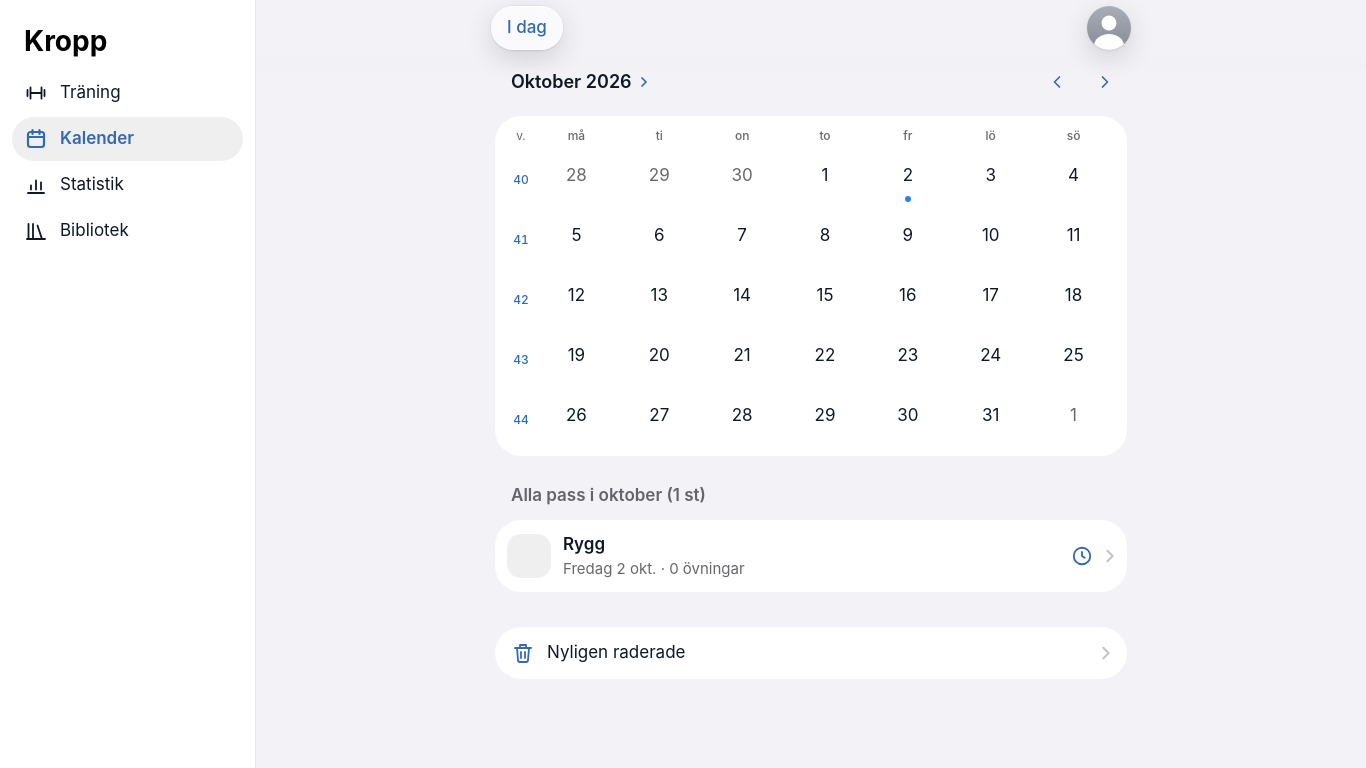
Test: chooses a week that begins in the month before without leaving the month shown
Click the button with test id "week-number" at {"x": 521, "y": 180}, box [507,166,535,194]
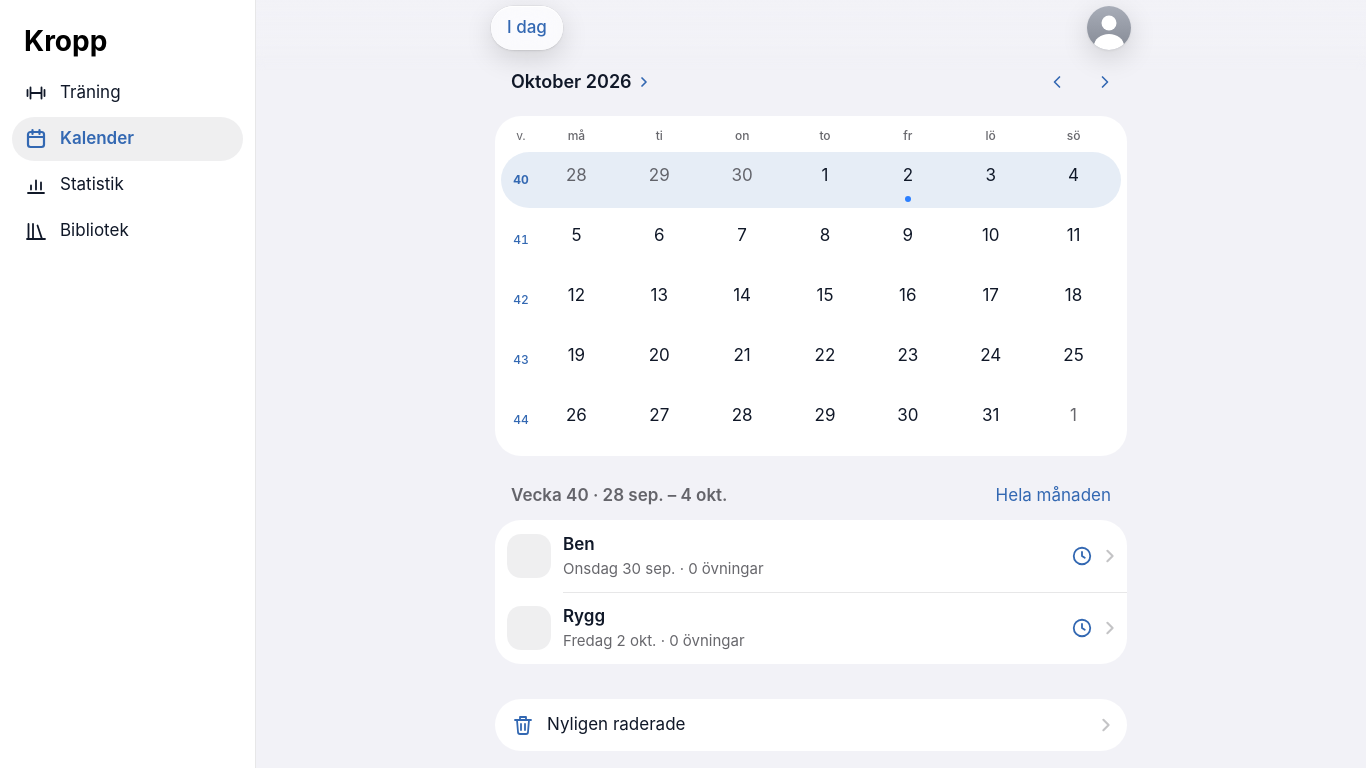
expect the text with test id "month" reads "oktober 2026": met, box [511,71,632,92]
expect the heading with test id "shown-heading" reads "Vecka 40 · 28 sep. – 4 okt.": met, box [511,485,728,505]
expect the number of elements with test id "workout-name" is 2: met, box [563,534,595,554]; [563,606,605,626]
